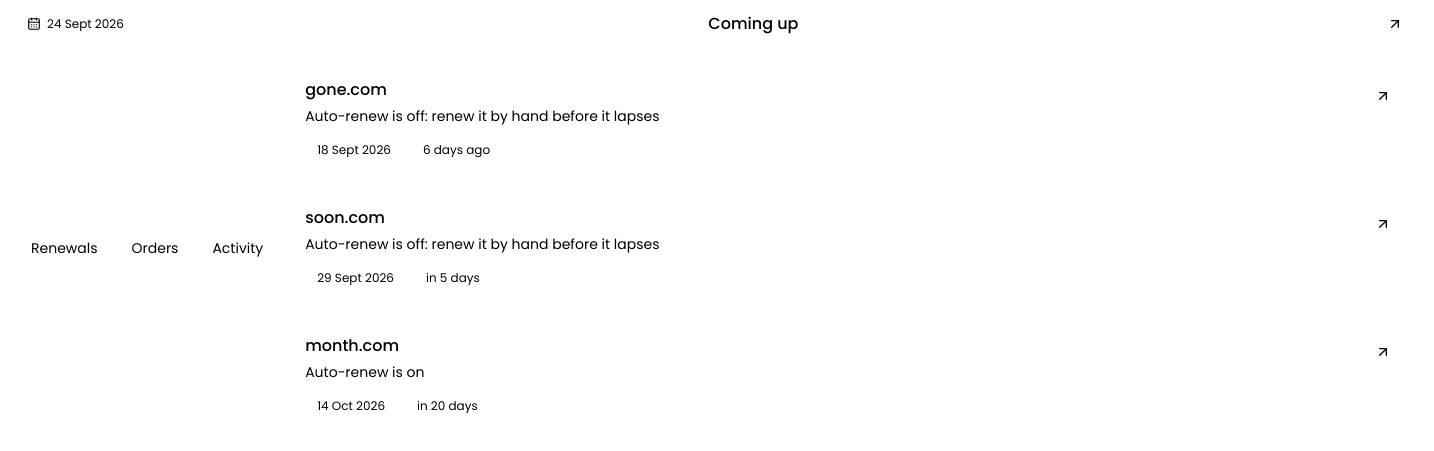
Test: ComingUp › moves between tabs from the keyboard
Click the tab "Renewals" at (64, 248), box [17,230,112,266]
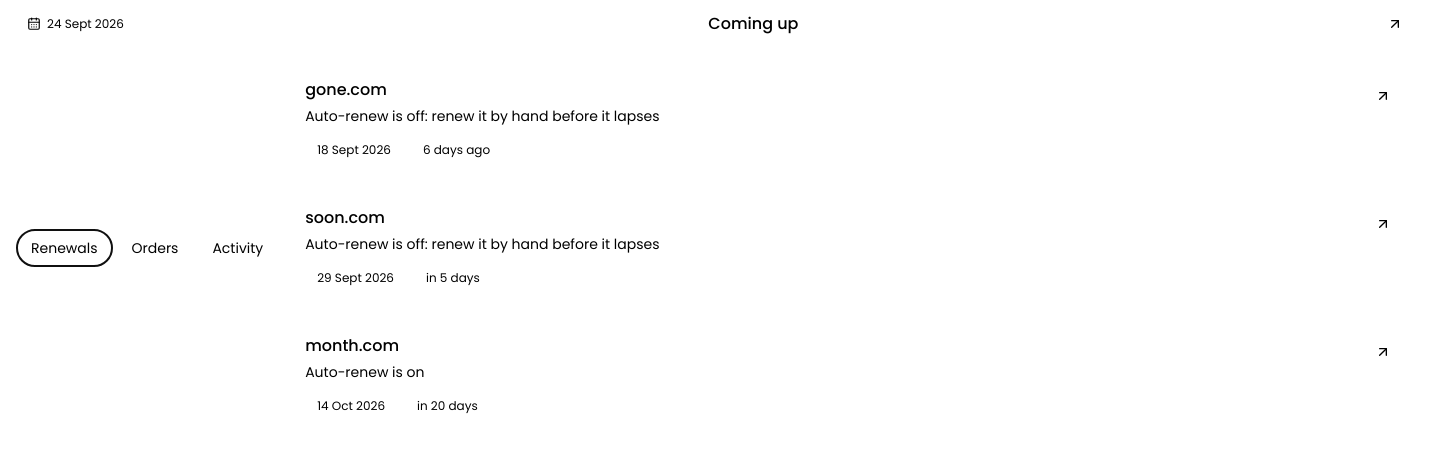
Press Arrowright
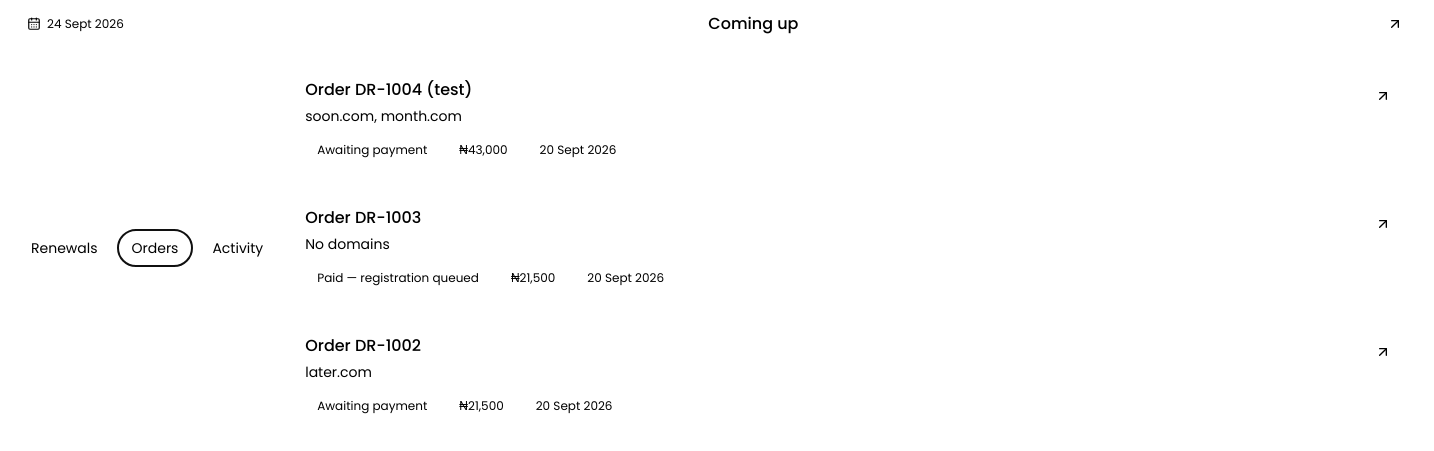
Now the panel named "Orders" is shown
